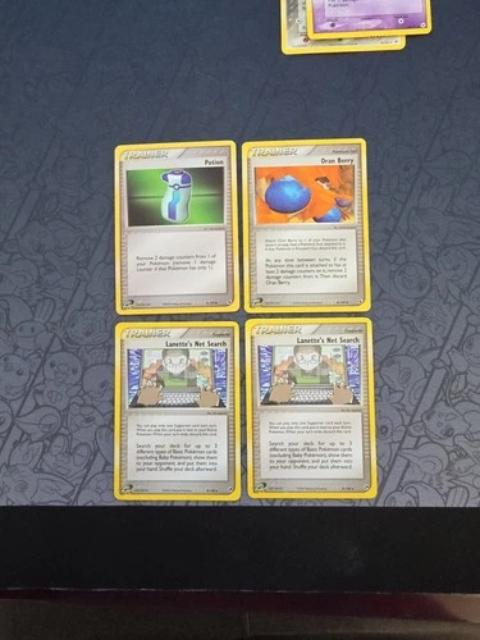Card: (241, 316, 381, 502), (110, 319, 245, 504), (238, 136, 374, 316), (111, 137, 242, 317), (275, 0, 410, 59), (302, 0, 434, 43), (290, 334, 363, 347)
Name: (160, 336, 232, 349), (316, 153, 357, 168), (200, 155, 228, 169)
